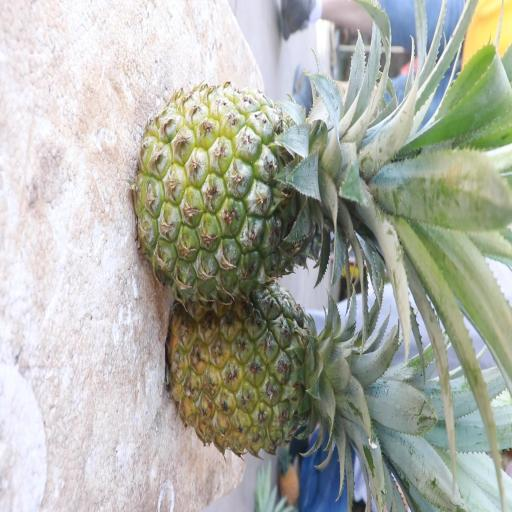------------------------------: (138, 68, 372, 288)
Pineapple - v8 v1: (168, 288, 374, 460)
